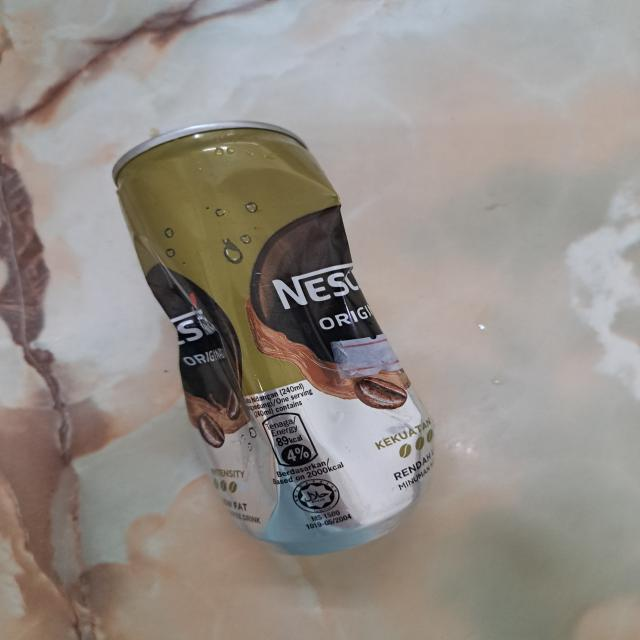can: (109, 121, 435, 555)
